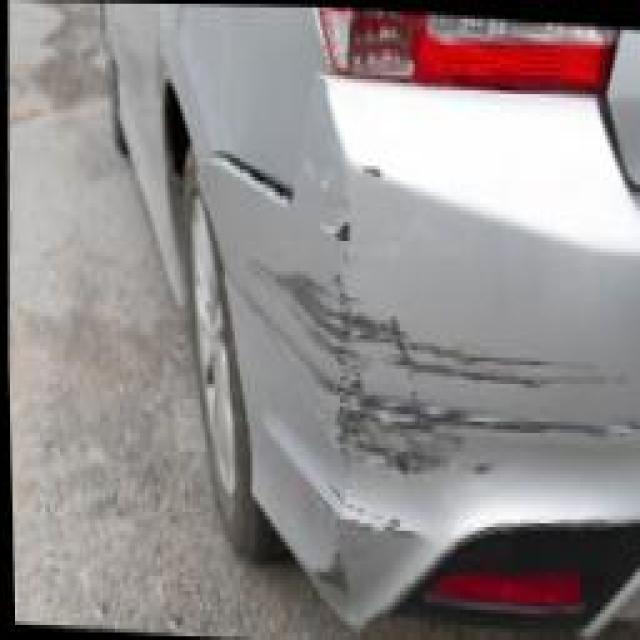Bumper: (220, 132, 639, 591)
